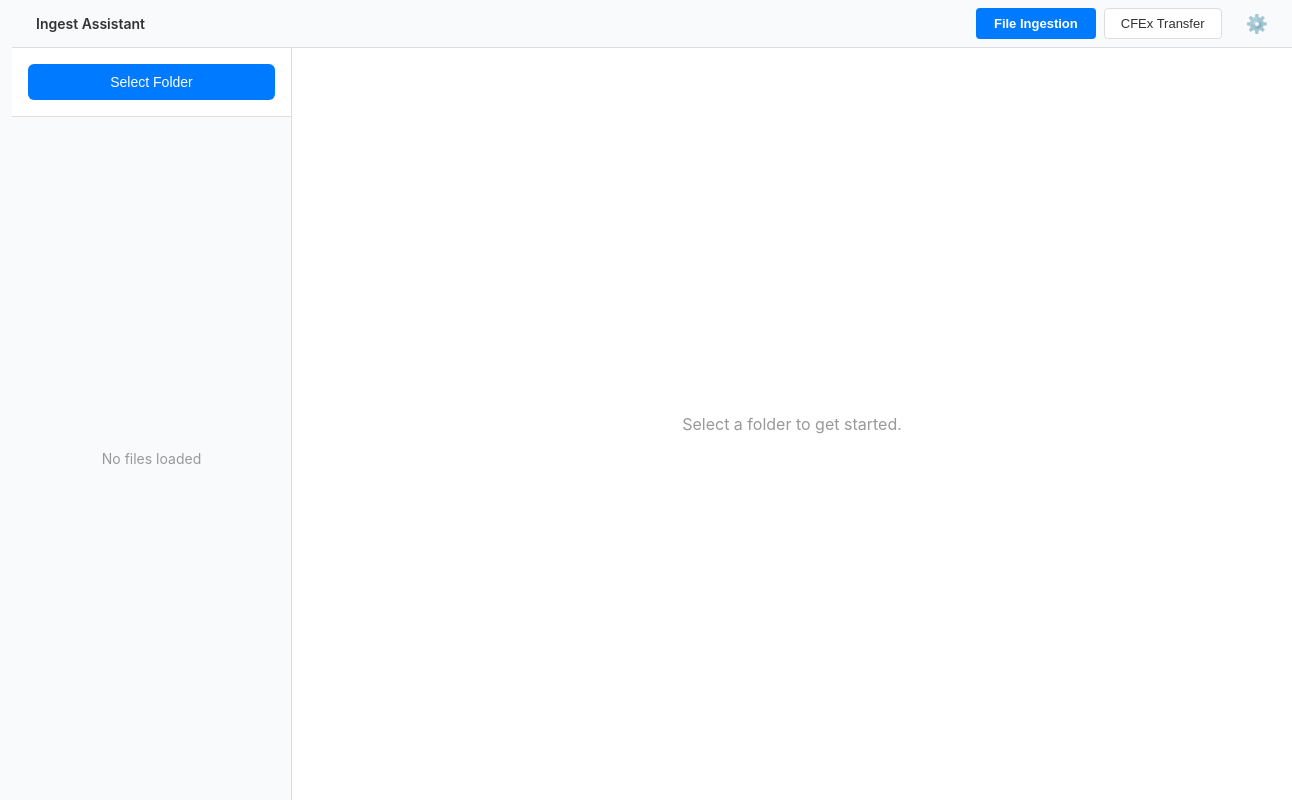
Test: Keyboard Shortcuts › Arrow keys - Navigation shortcuts › should navigate to next file with ArrowDown
This screenshot has width=1292, height=800.
Click the button "Select Folder". click: (152, 82)
box: x1=28 y1=64 x2=275 y2=100
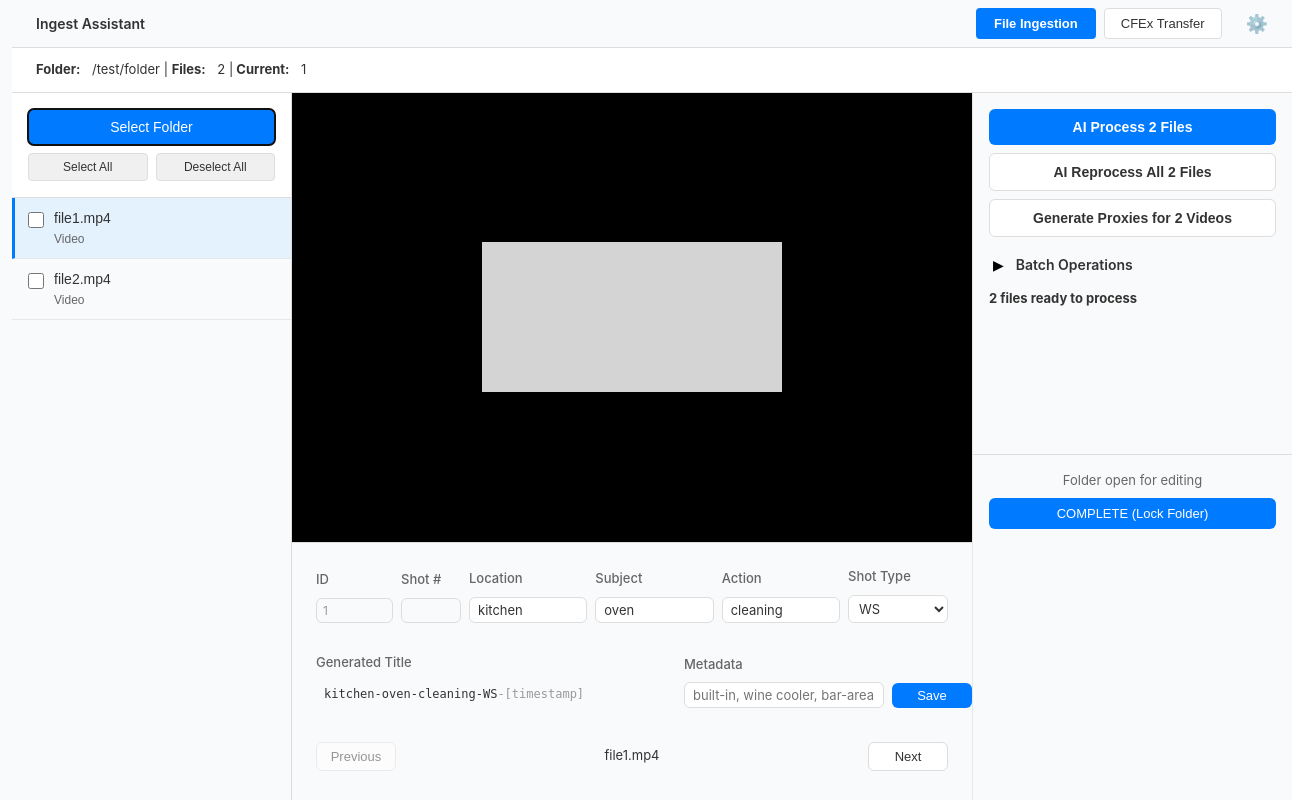
Expected: the text "Folder: /test/folder | Files: 2 | Current: 1" is shown, x1=12 y1=48 x2=1291 y2=92
Press ArrowDown
Press Arrowdown
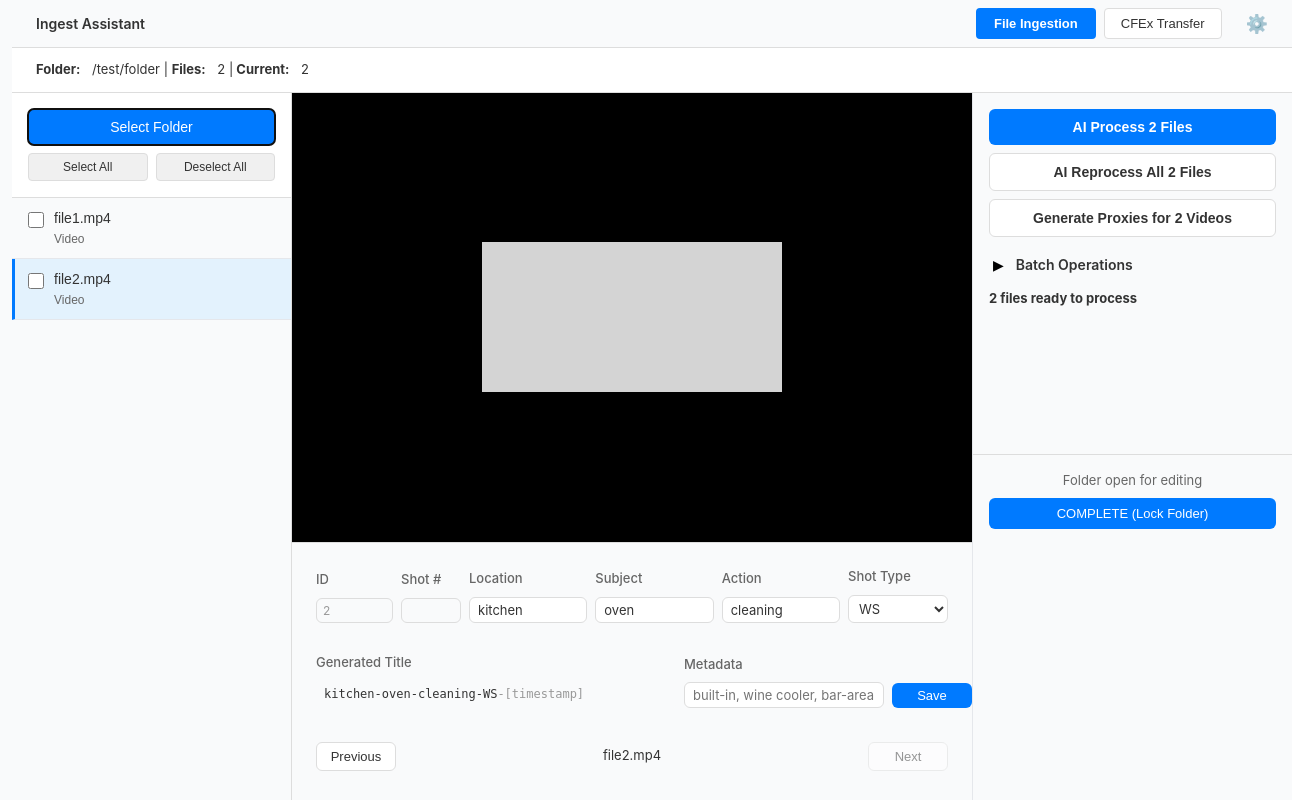
Expected: the text "Folder: /test/folder | Files: 2 | Current: 2" is shown, x1=12 y1=48 x2=1291 y2=92
